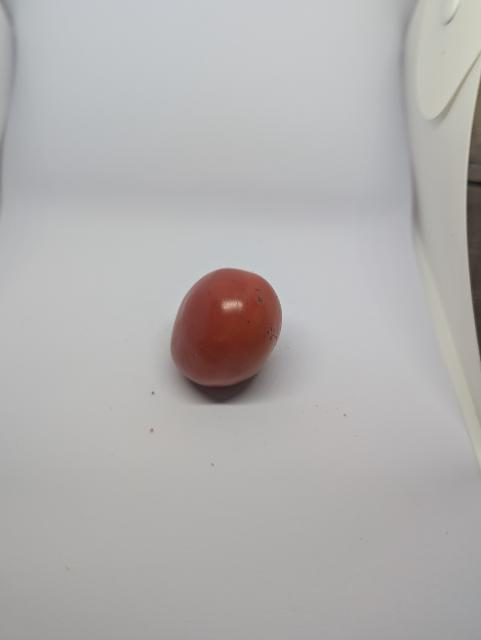red: (168, 267, 284, 391)
